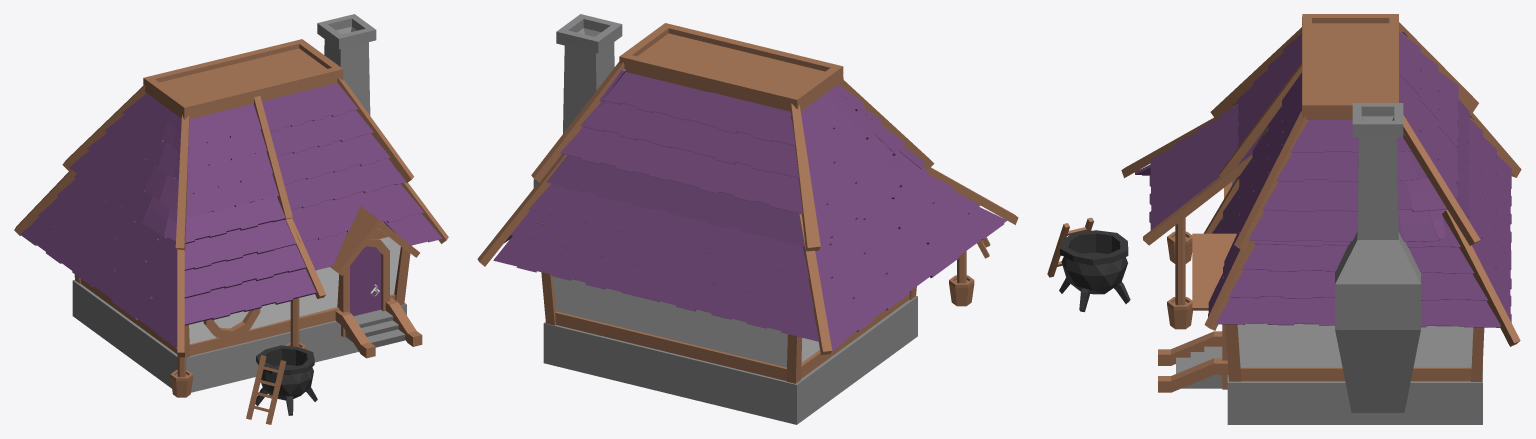
The model's file is HomeBase.fbx.
The picture shows the model from 3 angles, left to right: view 1: azimuth 30°, elevation 25°; view 2: azimuth 150°, elevation 25°; view 3: azimuth 270°, elevation 25°; orthographic projection. The views are drawn at different scales.
Parts seen in each view (by area): view 1: HomeBase; view 2: HomeBase; view 3: HomeBase.
Part boxes in pixels (box(x1,y1,x2,y2)): HomeBase: box(14, 14, 448, 424); HomeBase: box(477, 14, 1018, 424); HomeBase: box(1047, 14, 1521, 424).
Size of the model in its own units: 12.98 by 10.36 by 14.2.
